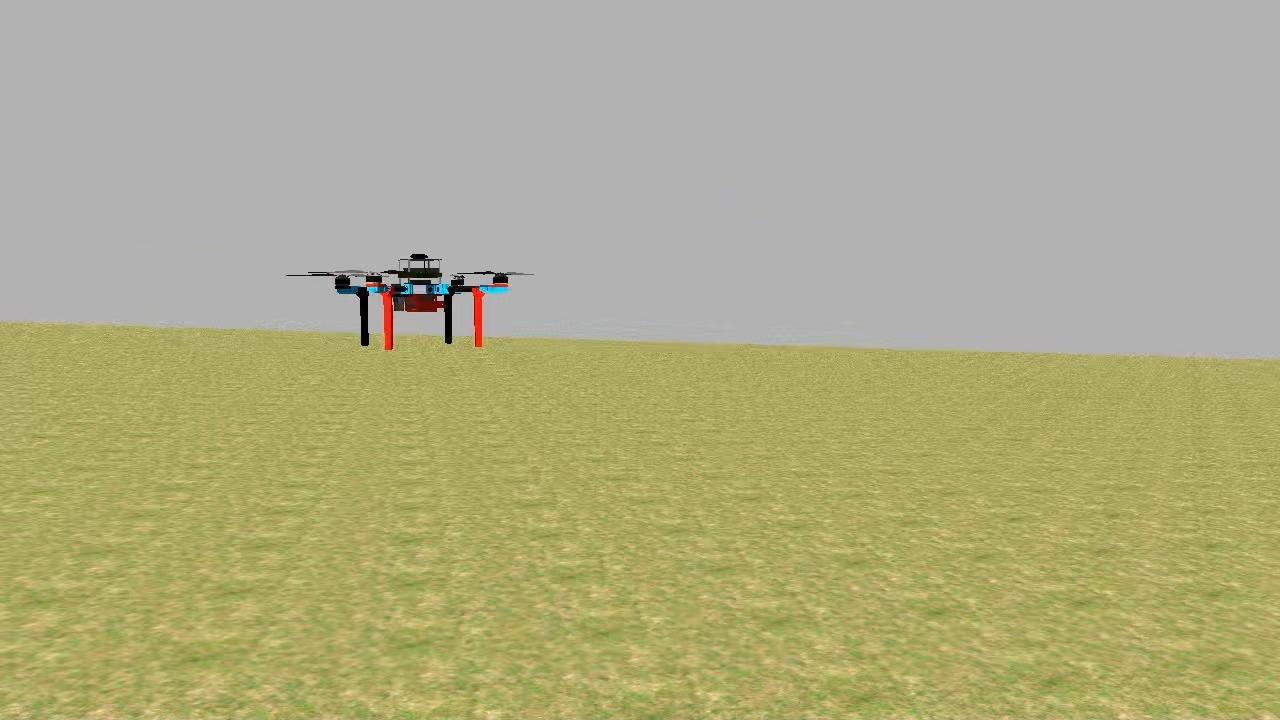UAV: (329, 246, 514, 358)
